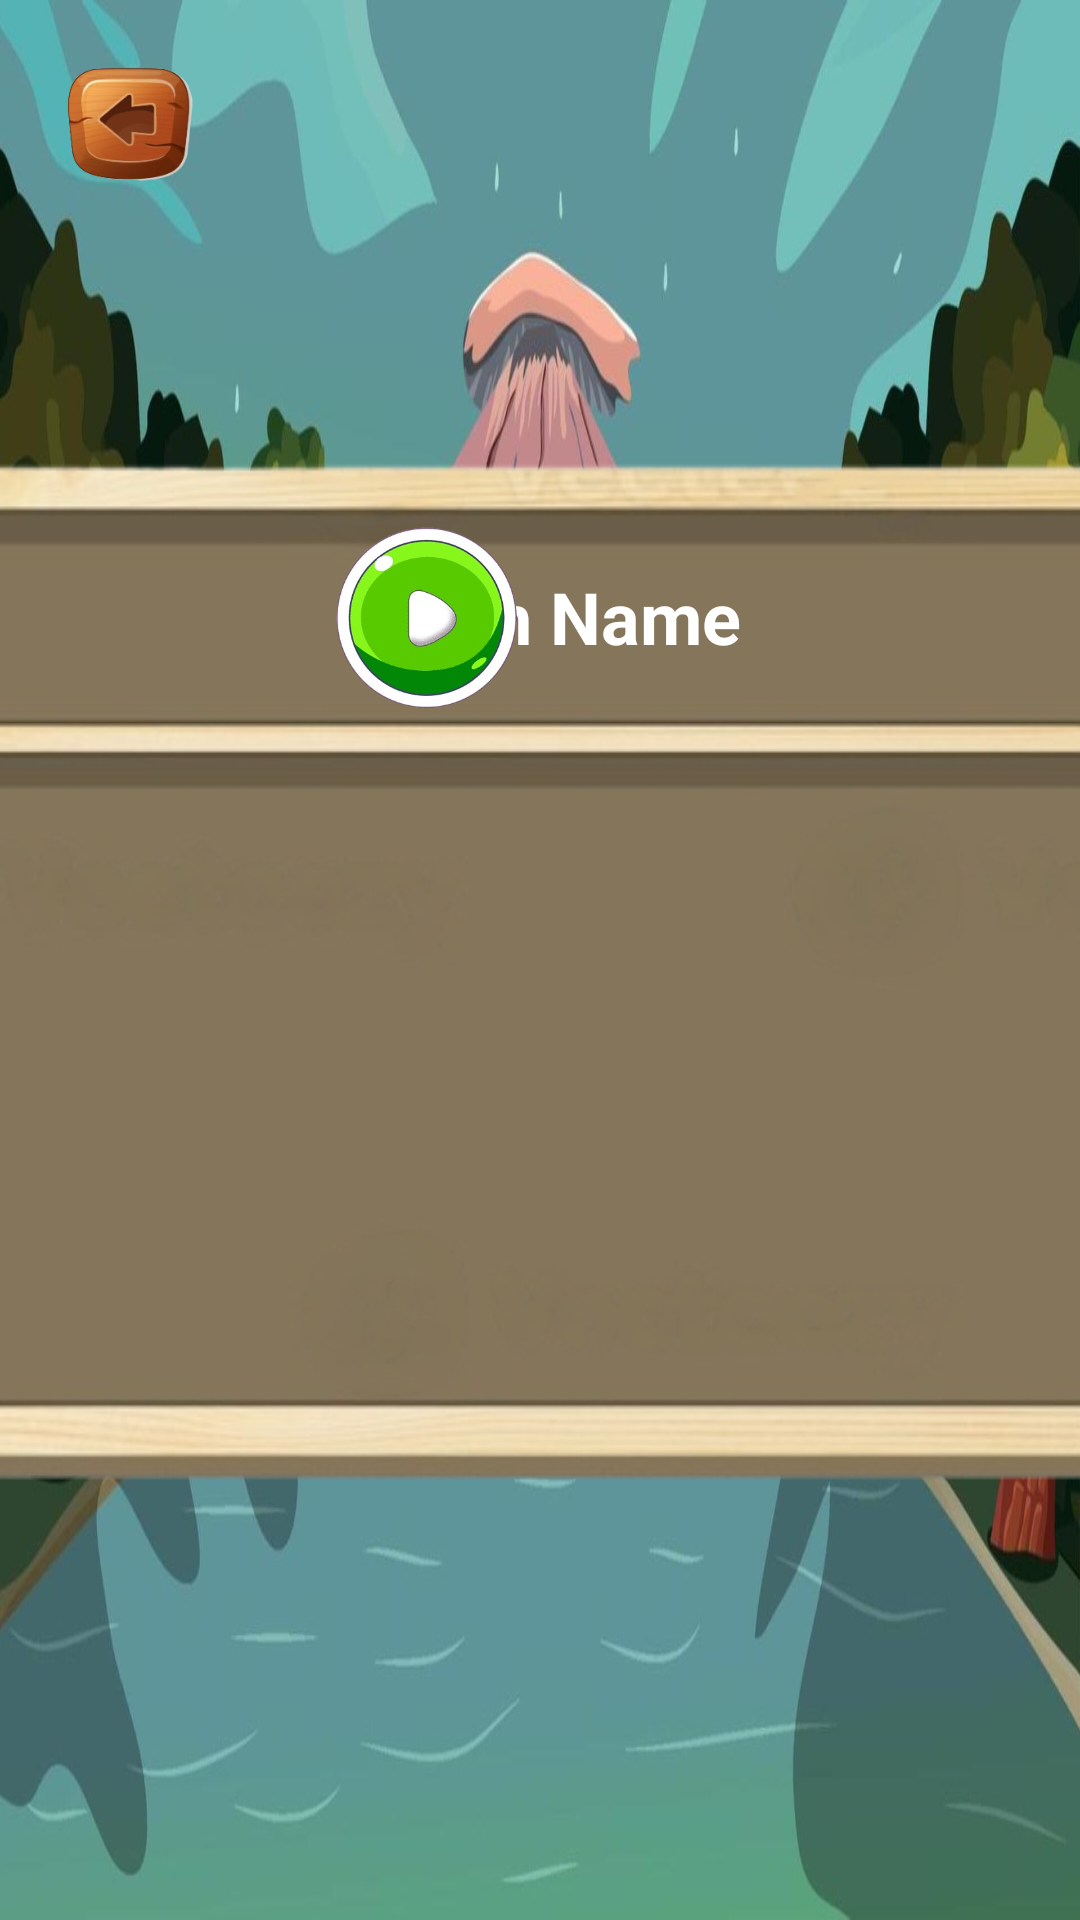

Icons on this 1080 x 1920 Android screen, each with the point to tap as [x,y]:
go back: [127,121]
